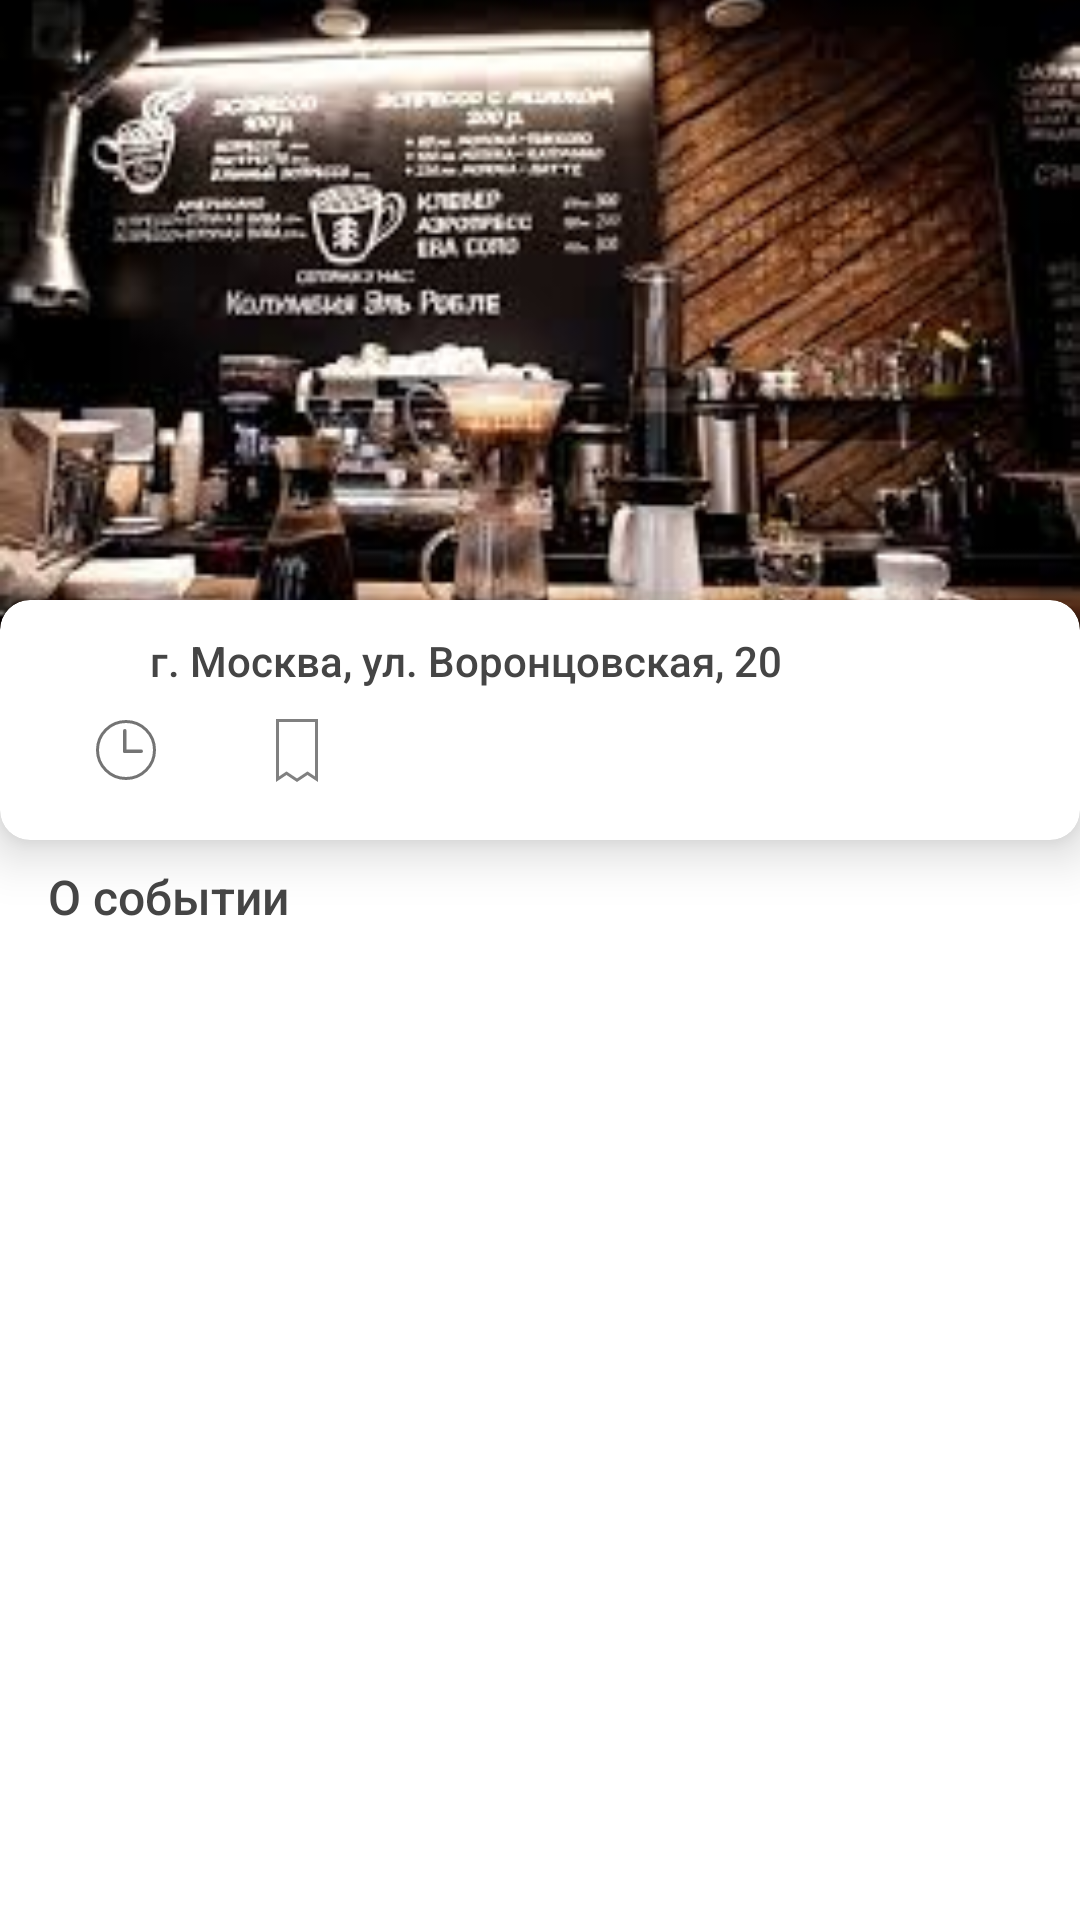

Icons on this 1080x1920 Android screen, each with its box as {"left": x1, "top": y1, "right": x2, "bottom": y2}:
clock: {"left": 96, "top": 720, "right": 156, "bottom": 780}
